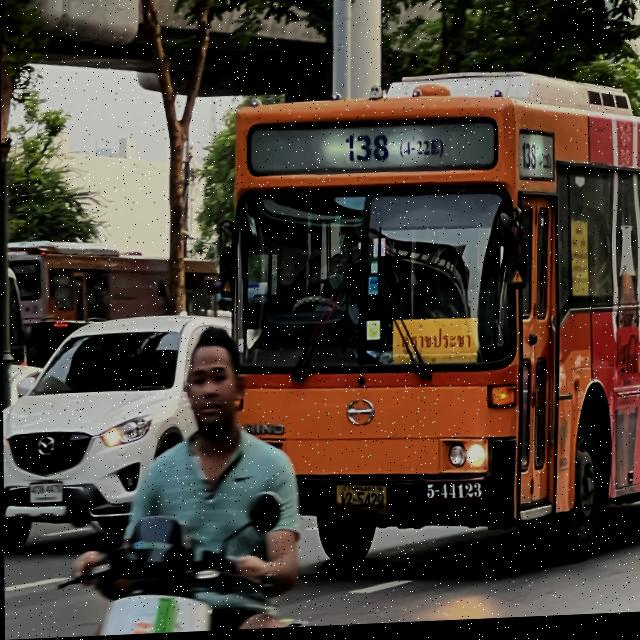BMTA-bus: (225, 59, 640, 583)
Bus-Line-Number: (333, 124, 456, 173)
Destination-Sign-Normal-Expressway: (389, 322, 478, 371)
